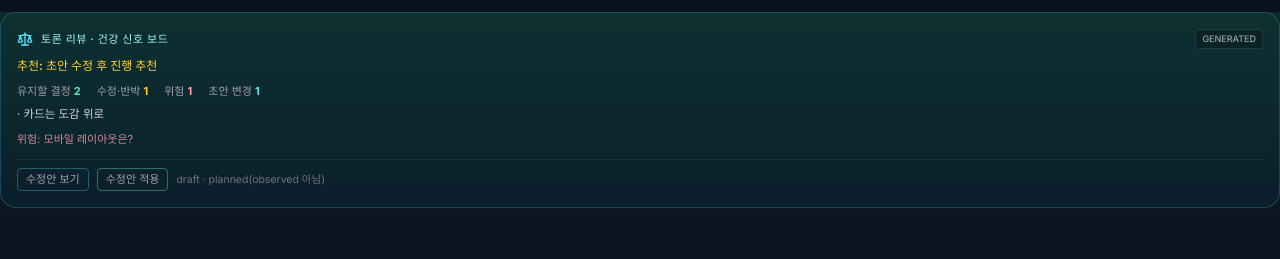
Test: BlueprintReviewCard — Revision Draft UI › (#10 round-trip) 부모 state controller로 적용 → appliedNotice 표시(App.tsx 실제 wiring 시뮬레이션)
// 적용 클릭 → 부모 state 업데이트 → 노티 표시
Click the button with test id "blueprint-revision-apply" at (133, 180), box [97,168,168,191]
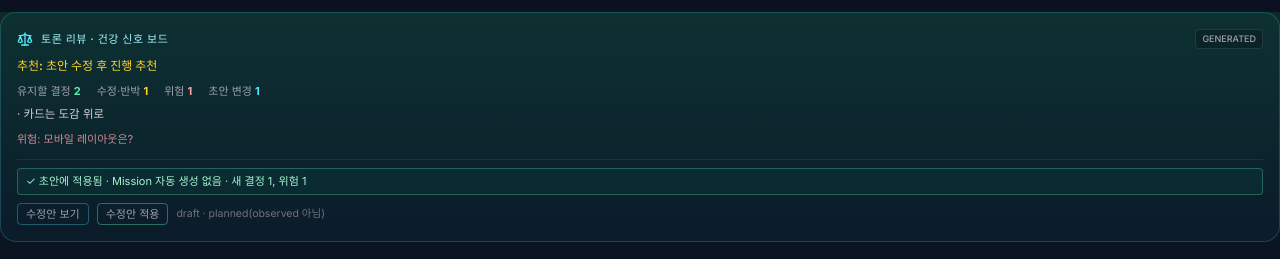
Expected: the text with test id "blueprint-revision-applied-notice" shows "초안에 적용됨", [39,174,306,188]
Expected: the text with test id "blueprint-revision-applied-notice" shows "Mission 자동 생성 없음", [39,174,306,188]
